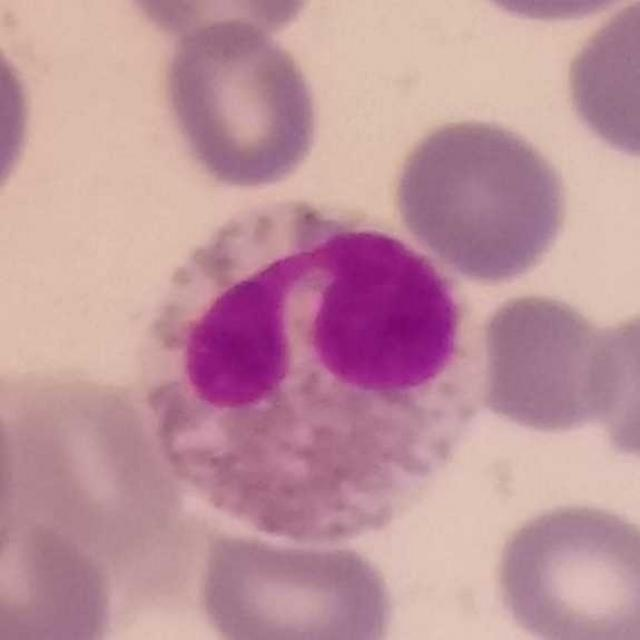eosino: (134, 194, 498, 541)
